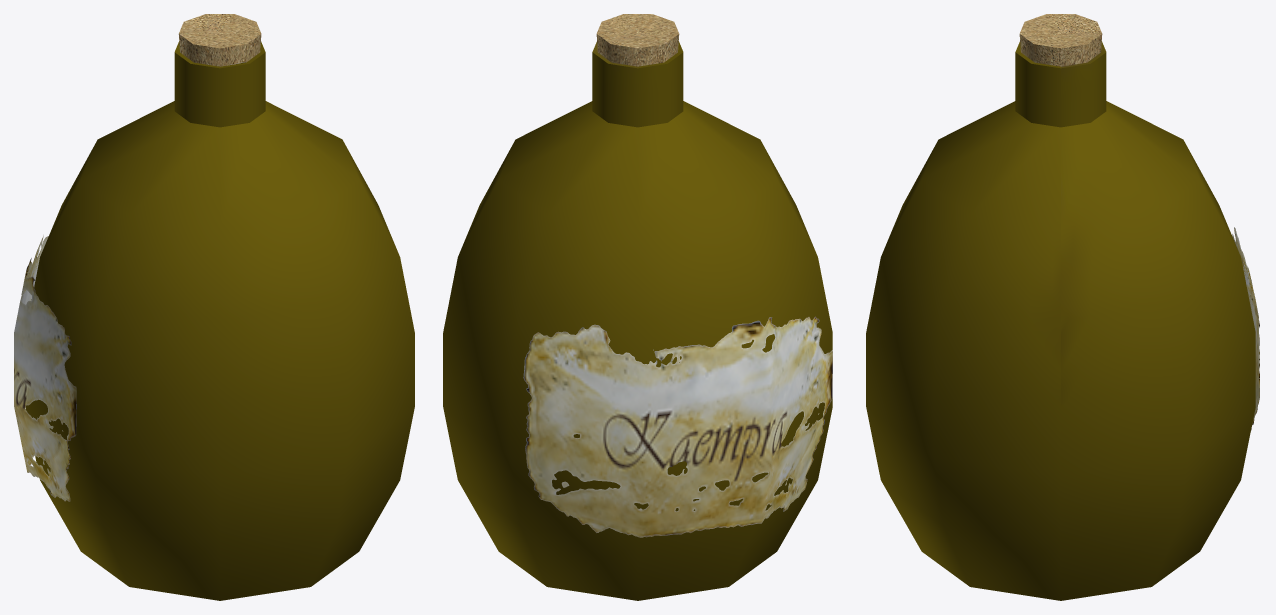
Rendered from bottle2.FBX.
3 views of the same model, side by side, from view 1: azimuth 30°, elevation 25°; view 2: azimuth 150°, elevation 25°; view 3: azimuth 270°, elevation 25° (orthographic).
Visible parts, largest first — view 1: bottle2, Object002; view 2: bottle2, Object002; view 3: bottle2, Object002.
Part boxes in pixels (bbox=[...]): bottle2: bbox=[14, 41, 414, 600]; Object002: bbox=[178, 14, 261, 66]; bottle2: bbox=[443, 41, 832, 600]; Object002: bbox=[596, 14, 679, 66]; bottle2: bbox=[866, 41, 1259, 600]; Object002: bbox=[1019, 14, 1102, 66].
Bounding box in the file's own units: 27.67 × 39.66 × 27.85.
